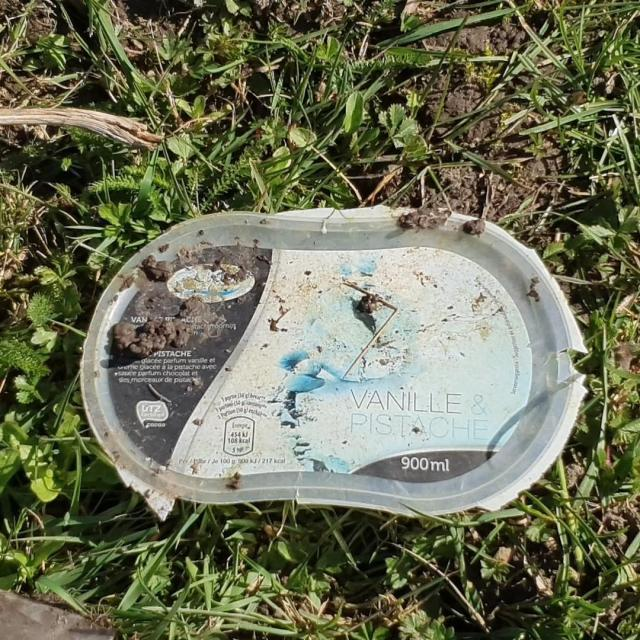Paper: (78, 203, 589, 522)
